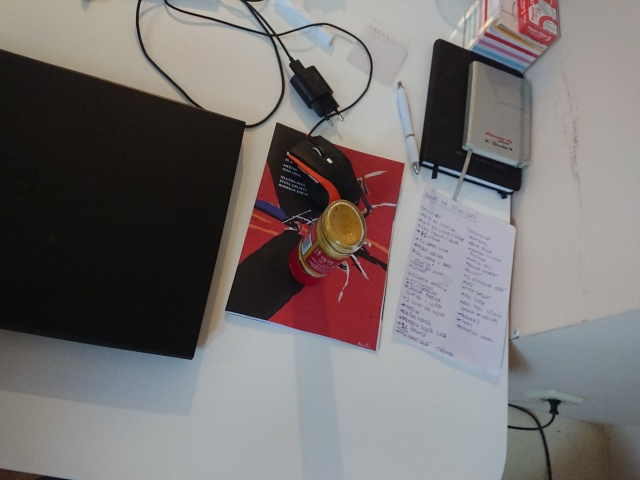Kotanyi Curry Spices Mix 70g: (286, 198, 368, 289)
